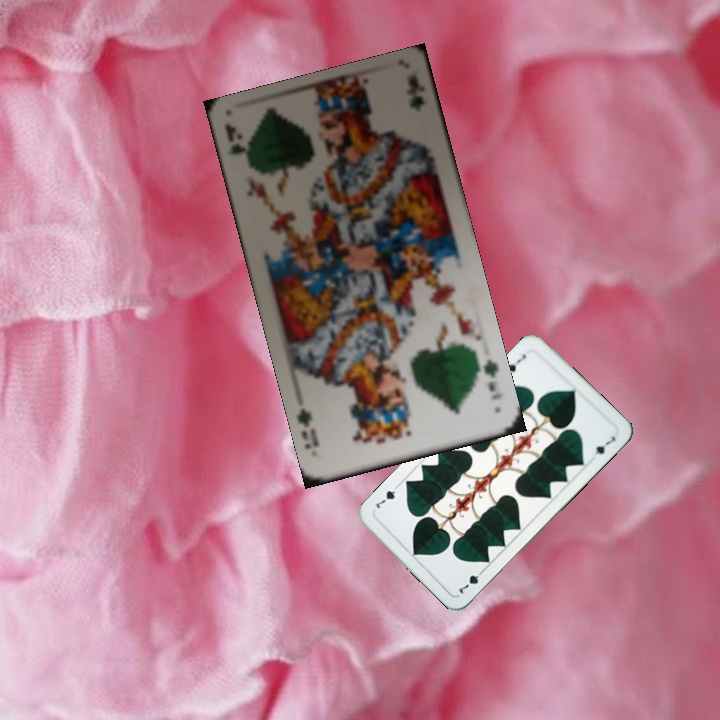G7: (455, 565, 487, 597), (503, 350, 529, 375)
GK: (221, 120, 257, 175), (472, 355, 505, 403)
